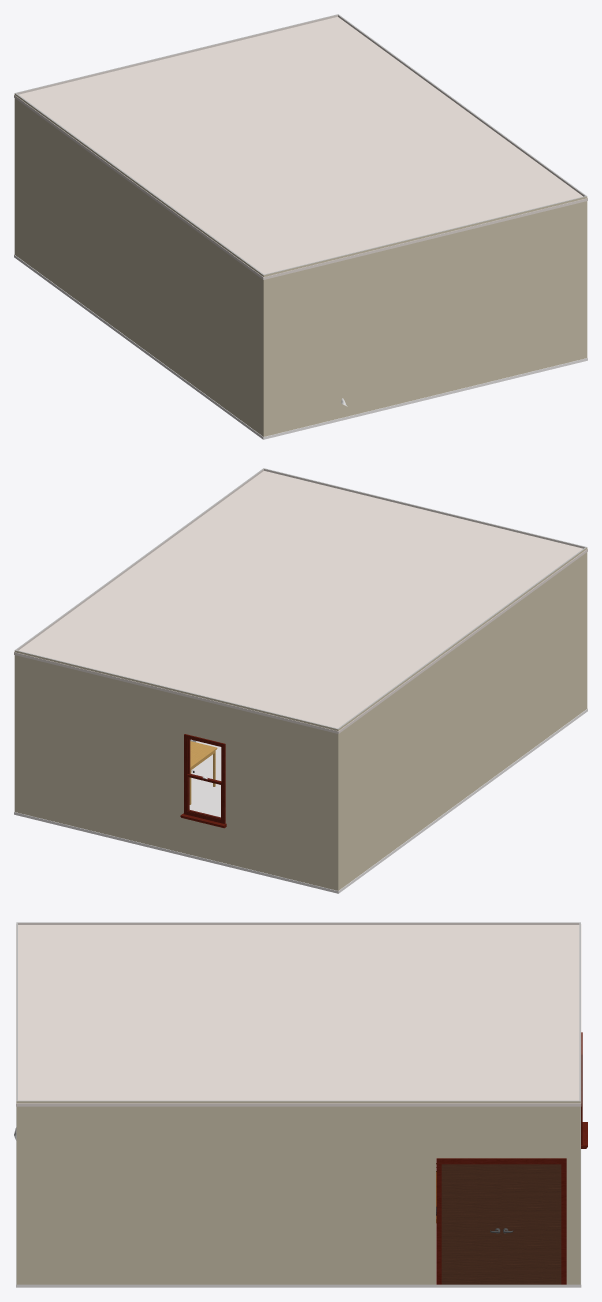
The model's file is ProcTHOR-Train-180.glb.
3 views of the same model, one above another, from view 1: azimuth 30°, elevation 25°; view 2: azimuth 150°, elevation 25°; view 3: azimuth 270°, elevation 25° (orthographic). The views are drawn at different scales.
Visible parts, largest first — view 1: Ceiling#room|2|c, WallInside#wall|exterior|0.00|8.61|6.46|8.61, WallInside#wall|exterior|6.46|0.00|6.46|8.61, Floor#room|2|f, WallInside#wall|2|0.00|0.00|6.46|0.00, WallInside#wall|2|0.00|0.00|0.00|8.61; view 2: Ceiling#room|2|c, WallInside#wall|exterior|0.00|0.00|6.46|0.00, WallInside#wall|exterior|6.46|0.00|6.46|8.61, Floor#room|2|f, Window_Hung_32x60, WallInside#wall|2|0.00|8.61|6.46|8.61, WallInside#wall|2|0.00|0.00|0.00|8.61, RoboTHOR_dining_table_extendable; view 3: Ceiling#room|2|c, WallInside#wall|exterior|0.00|0.00|0.00|8.61, Doorway_Door_1a, Doorway_Door_1b, Floor#room|2|f, Doorway_Double_1, WallInside#wall|2|6.46|0.00|6.46|8.61, WallInside#wall|2|0.00|0.00|0.00|8.61, WallInside#wall|exterior|6.46|0.00|6.46|8.61.
Boxes of the visible parts, x1,y1,x2,y2 form: Ceiling#room|2|c: [14, 17, 587, 279]; WallInside#wall|exterior|0.00|8.61|6.46|8.61: [263, 196, 587, 436]; WallInside#wall|exterior|6.46|0.00|6.46|8.61: [14, 93, 263, 436]; Floor#room|2|f: [14, 254, 587, 439]; WallInside#wall|2|0.00|0.00|6.46|0.00: [15, 14, 337, 94]; WallInside#wall|2|0.00|0.00|0.00|8.61: [338, 14, 586, 196]; Ceiling#room|2|c: [14, 471, 587, 733]; WallInside#wall|exterior|0.00|0.00|6.46|0.00: [14, 650, 338, 890]; WallInside#wall|exterior|6.46|0.00|6.46|8.61: [338, 547, 587, 890]; Floor#room|2|f: [14, 708, 587, 893]; Window_Hung_32x60: [180, 734, 226, 828]; WallInside#wall|2|0.00|8.61|6.46|8.61: [264, 468, 586, 548]; WallInside#wall|2|0.00|0.00|0.00|8.61: [15, 468, 264, 650]; RoboTHOR_dining_table_extendable: [189, 741, 217, 804]; Ceiling#room|2|c: [16, 924, 581, 1106]; WallInside#wall|exterior|0.00|0.00|0.00|8.61: [16, 1101, 580, 1284]; Doorway_Door_1a: [501, 1164, 561, 1284]; Doorway_Door_1b: [441, 1164, 501, 1284]; Floor#room|2|f: [16, 1107, 581, 1287]; Doorway_Double_1: [436, 1158, 566, 1284]; WallInside#wall|2|6.46|0.00|6.46|8.61: [18, 922, 580, 924]; WallInside#wall|2|0.00|0.00|0.00|8.61: [17, 1100, 580, 1100]; WallInside#wall|exterior|6.46|0.00|6.46|8.61: [18, 922, 578, 922].
Size of the model in its own units: 6.56 by 3.14 by 8.78.
88 materials, 33 textured.
